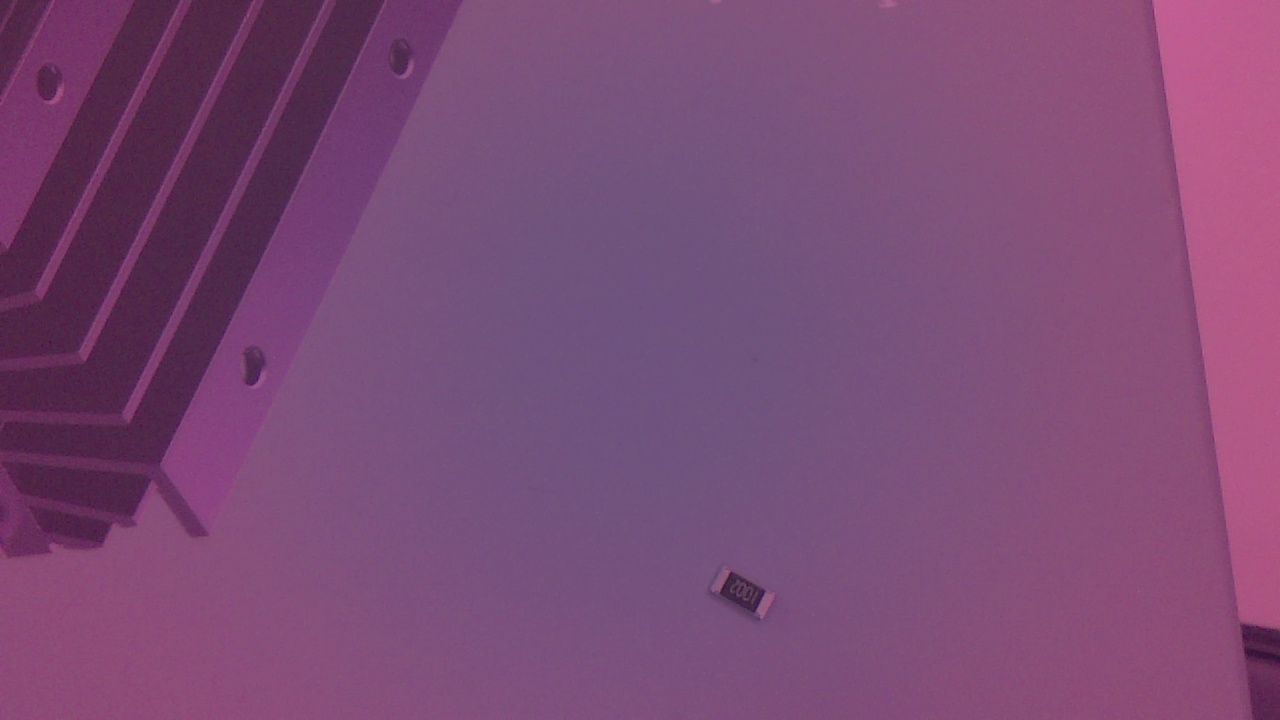Resistor: (707, 564, 787, 638)
